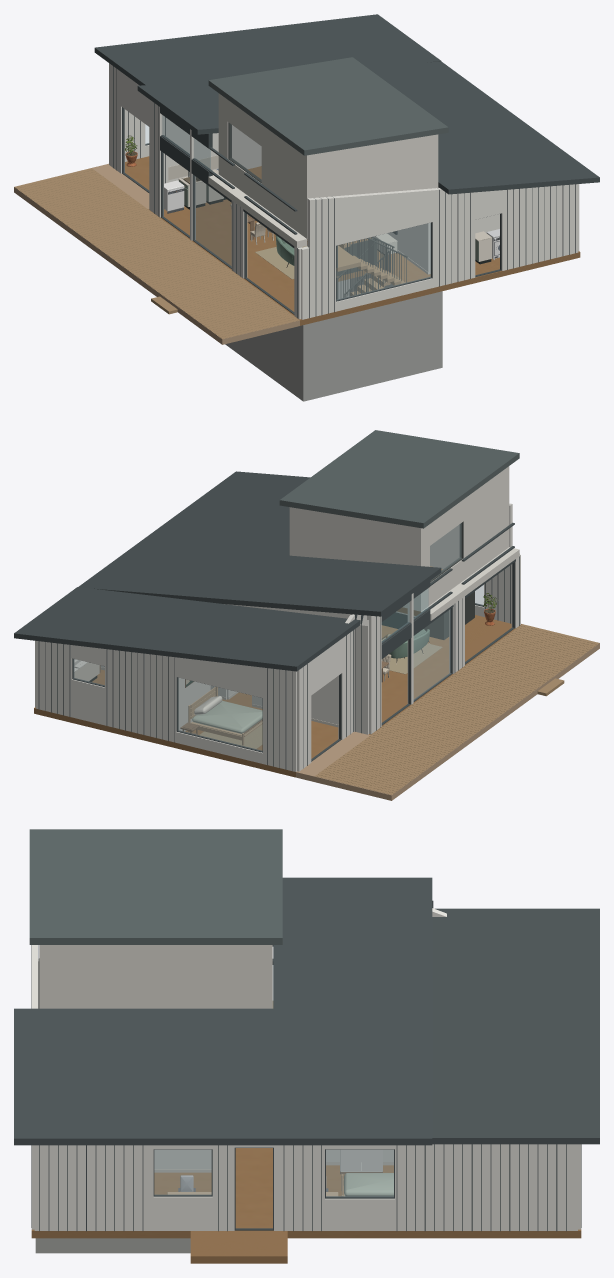
3 views of the same model, one above another, from view 1: azimuth 30°, elevation 25°; view 2: azimuth 150°, elevation 25°; view 3: azimuth 270°, elevation 25° (orthographic). The views are drawn at different scales.
Visible parts, largest first — view 1: Living wing shed roof, Raised office shed roof, Master wing shed roof, Basement retaining concept 2, Office enclosing wall 3, ground/left/pier-0, ground/left/glass-1, ground/left/header-1, ground/left/pier-1, ground/left/end, ground compact slab 1, Basement retaining concept 0 (+29 smaller); view 2: Living wing shed roof, Master wing shed roof, Raised office shed roof, ground/right/pier-1, Office enclosing wall 4, ground/right/glass-1, ground compact slab 1, ground/right/end, ground/right/pier-0, ground/rear-living/glass-1, ground/right/header-1, Office east wall high (+31 smaller); view 3: Living wing shed roof, Master wing shed roof, Raised office shed roof, ground/front/end, Office enclosing wall 2, ground/front/pier-0, ground compact slab 1, ground/front/pier-2, front-porch, ground/front/glass-2, ground/front/glass-0, ground/front/sill-2 (+7 smaller).
Boxes of the visible parts, box(x1,y1,x2,y2) form: Living wing shed roof: box(137, 61, 599, 194); Raised office shed roof: box(208, 57, 448, 155); Master wing shed roof: box(94, 14, 440, 85); Basement retaining concept 2: box(310, 293, 435, 393); Office enclosing wall 3: box(311, 135, 434, 198); ground/left/pier-0: box(501, 184, 578, 270); ground/left/glass-1: box(336, 223, 430, 299); ground/left/header-1: box(334, 188, 432, 245); ground/left/pier-1: box(431, 188, 475, 287); ground/left/end: box(300, 196, 335, 319); ground compact slab 1: box(125, 156, 405, 289); Basement retaining concept 0: box(232, 323, 309, 394); Living wing shed roof: box(78, 471, 441, 616); Master wing shed roof: box(14, 587, 360, 671); Raised office shed roof: box(279, 430, 519, 528); ground/right/pier-1: box(105, 649, 176, 742); Office enclosing wall 4: box(293, 508, 416, 616); ground/right/glass-1: box(178, 678, 262, 750); ground compact slab 1: box(34, 625, 467, 777); ground/right/end: box(263, 667, 296, 771); ground/right/pier-0: box(36, 641, 72, 717); ground/rear-living/glass-1: box(414, 609, 450, 699); ground/right/header-1: box(176, 657, 262, 697); Office east wall high: box(417, 466, 509, 552); Living wing shed roof: box(14, 877, 432, 1145); Master wing shed roof: box(432, 908, 599, 1144); Raised office shed roof: box(29, 829, 282, 944); ground/front/end: box(395, 1144, 577, 1230); Office enclosing wall 2: box(39, 945, 272, 1008); ground/front/pier-0: box(34, 1145, 153, 1230); ground compact slab 1: box(125, 1148, 581, 1238); ground/front/pier-2: box(274, 1145, 324, 1230); front-porch: box(190, 1231, 287, 1263); ground/front/glass-2: box(326, 1150, 393, 1196); ground/front/glass-0: box(154, 1150, 211, 1194); ground/front/sill-2: box(325, 1198, 394, 1230).
Bounding box in the file's own units: 15.77 × 9.4 × 14.95.
146 materials, 18 textured.
